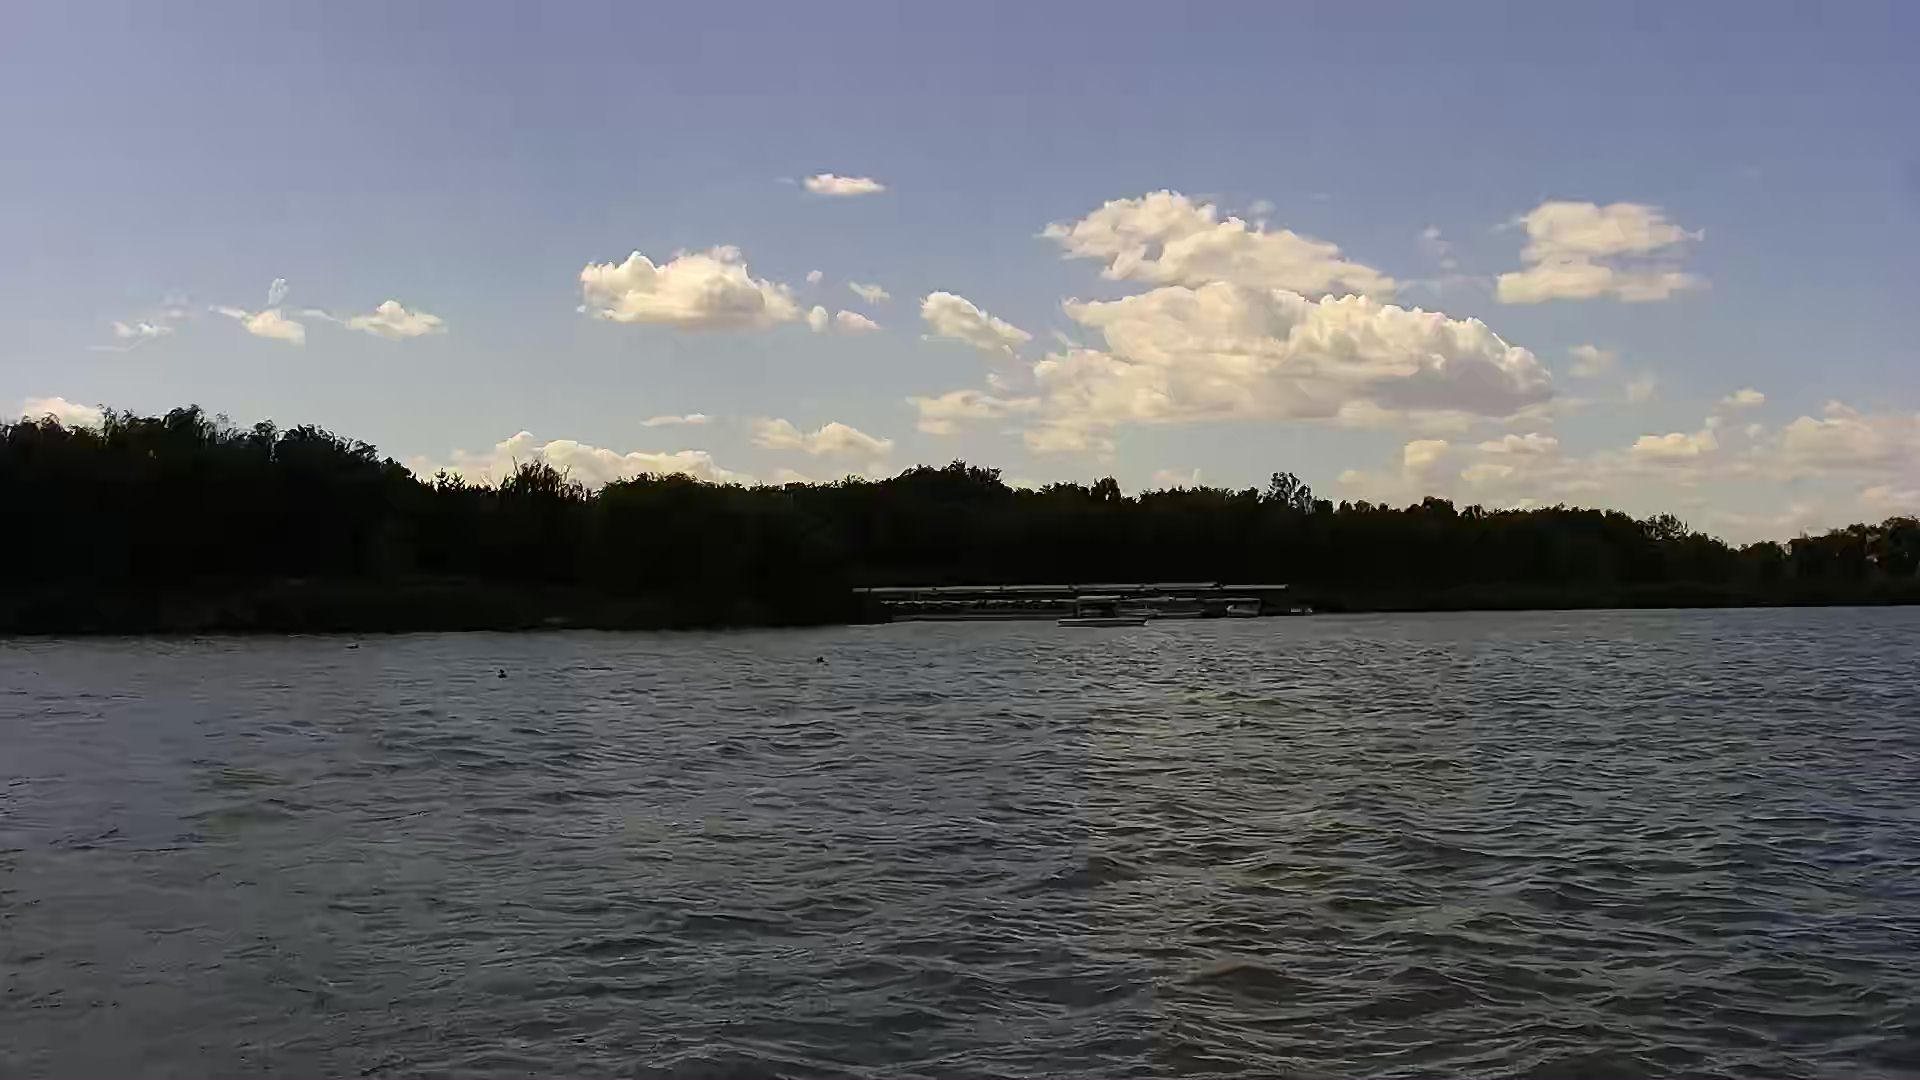boat: (1059, 596, 1155, 632)
harbor: (853, 579, 1302, 626)
